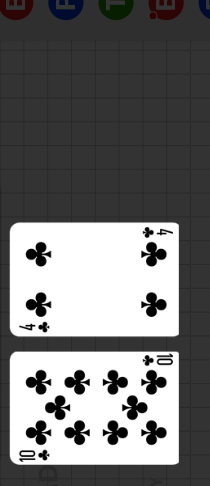10C: (140, 353, 175, 368)
4C: (140, 226, 175, 240)
